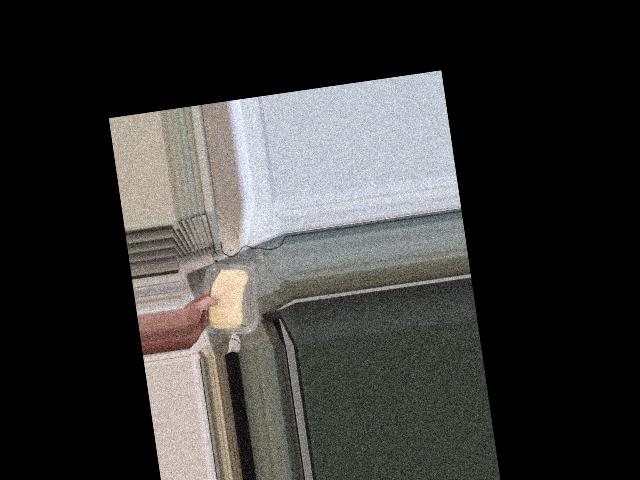cheese: (197, 261, 258, 338)
